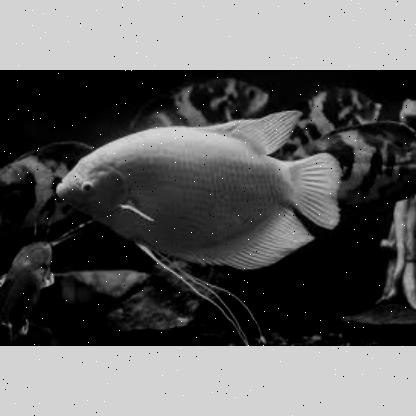gurame: (60, 120, 324, 264)
